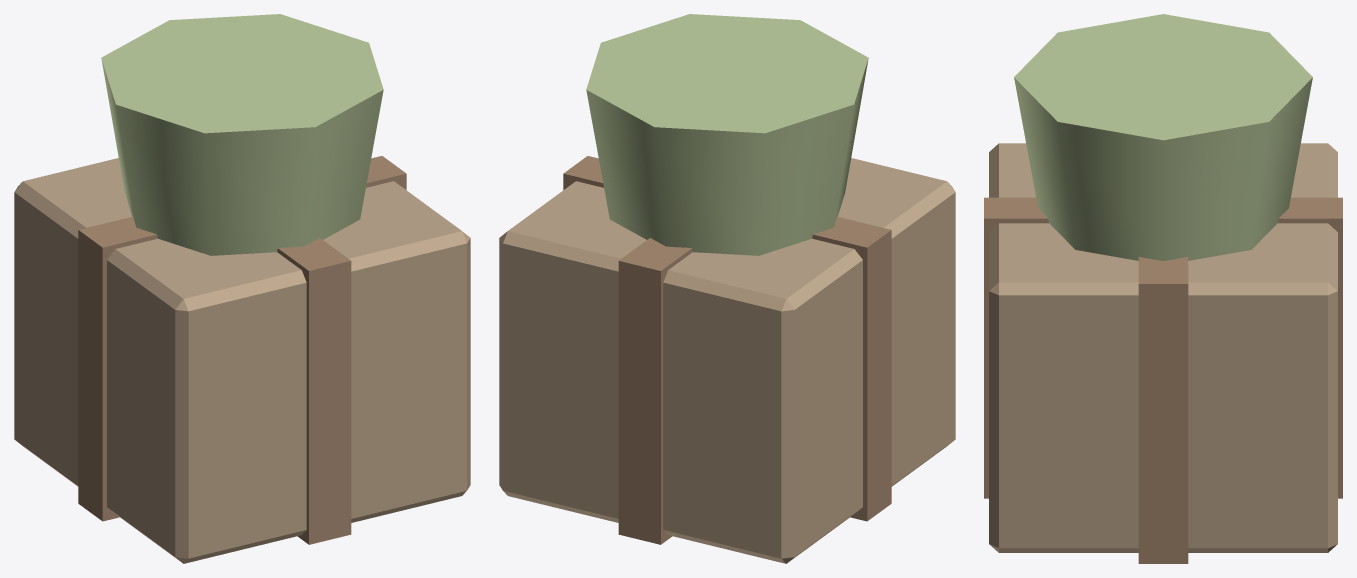
The model's file is crate.glb.
3 renders of one model, left to right at view 1: azimuth 30°, elevation 25°; view 2: azimuth 150°, elevation 25°; view 3: azimuth 270°, elevation 25°, orthographic. The views are drawn at different scales.
Visible parts, largest first — view 1: Crate; view 2: Crate; view 3: Crate.
Boxes of the visible parts, x1,y1,x2,y2 form: Crate: (14,14,470,563); Crate: (499,14,955,563); Crate: (984,14,1342,563).
Size of what is drawn, in the model's own units: 0.72 by 0.91 by 0.72.
